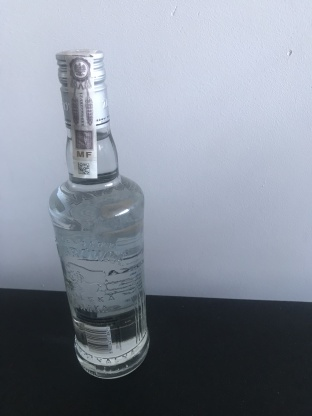nakretka: (54, 45, 112, 132)
